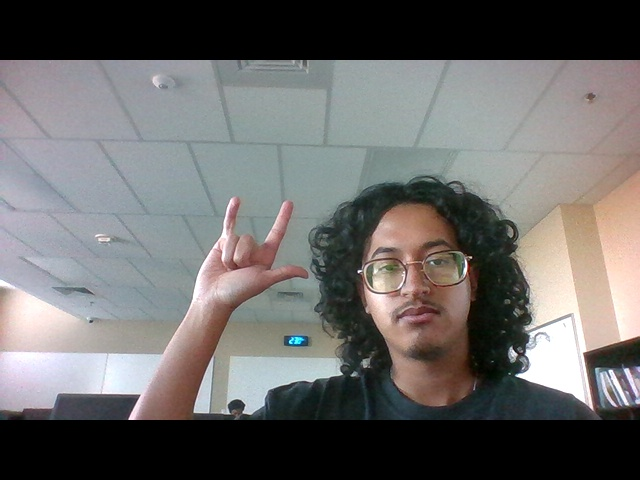iloveyou: (188, 184, 320, 315)
